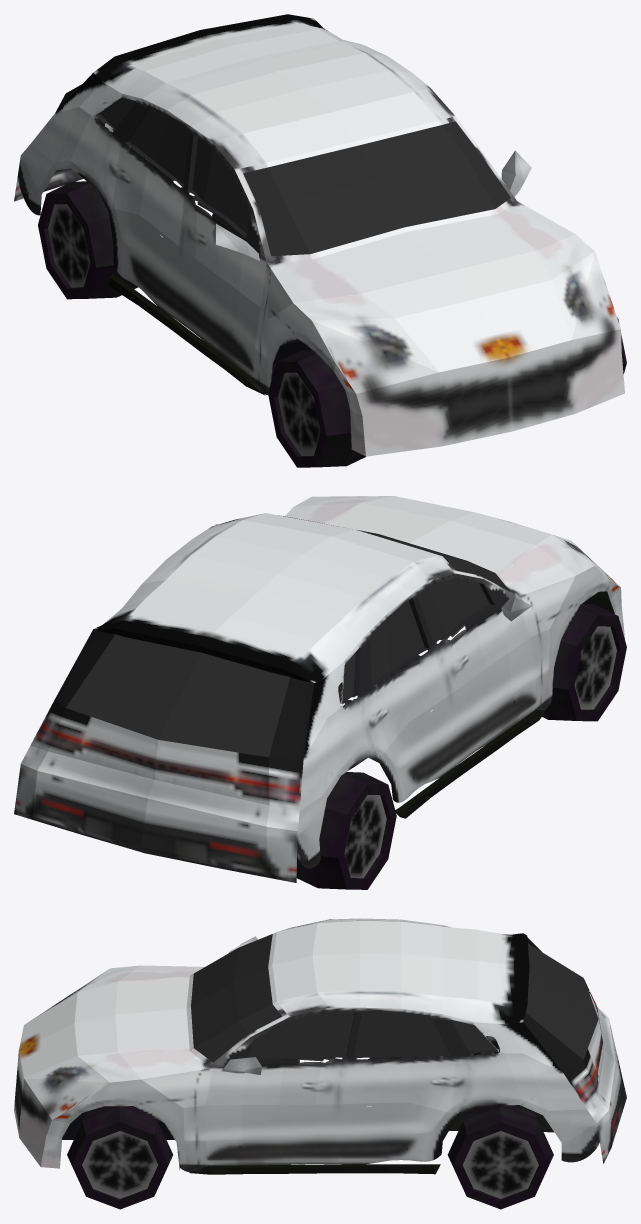
File: Car.fbx
The picture shows the model from 3 angles, top to bottom: view 1: azimuth 30°, elevation 25°; view 2: azimuth 150°, elevation 25°; view 3: azimuth 270°, elevation 25°; orthographic projection. The views are drawn at different scales.
Parts seen in each view (by area): view 1: Car, Car.003, Car.004; view 2: Car, Car.004, Car.003; view 3: Car, Car.002, Car.001.
Part boxes in pixels (bbox=[...]): Car: bbox=[14, 14, 624, 456]; Car.003: bbox=[268, 350, 365, 467]; Car.004: bbox=[38, 181, 137, 299]; Car: bbox=[14, 496, 624, 882]; Car.004: bbox=[296, 772, 396, 889]; Car.003: bbox=[542, 603, 626, 721]; Car: bbox=[14, 918, 626, 1174]; Car.002: bbox=[447, 1105, 553, 1209]; Car.001: bbox=[67, 1106, 172, 1209].
Bounding box in the file's own units: 372 × 272 × 756.
